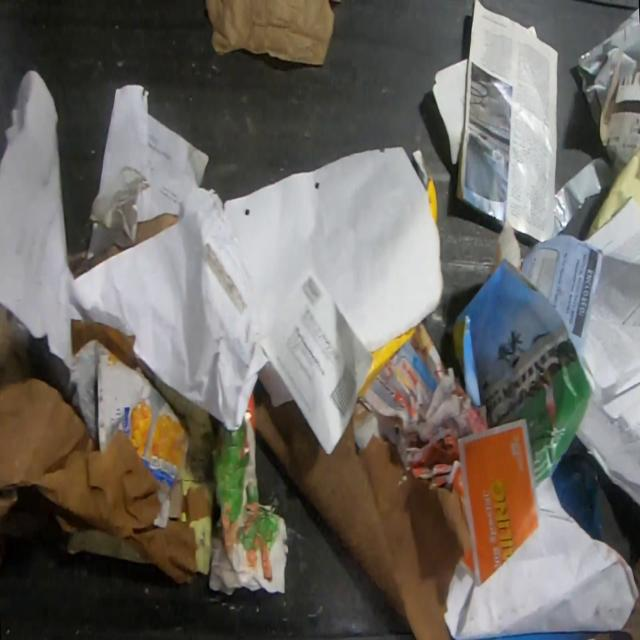cardboard: (0, 302, 196, 586), (69, 337, 190, 529), (208, 387, 290, 596), (151, 369, 216, 577), (598, 42, 640, 176), (358, 325, 419, 399), (431, 55, 468, 165), (65, 528, 154, 566), (410, 147, 438, 225), (67, 243, 126, 279), (135, 212, 180, 245), (526, 24, 538, 38)
soft_plastic: (575, 7, 640, 133), (548, 158, 602, 240)
